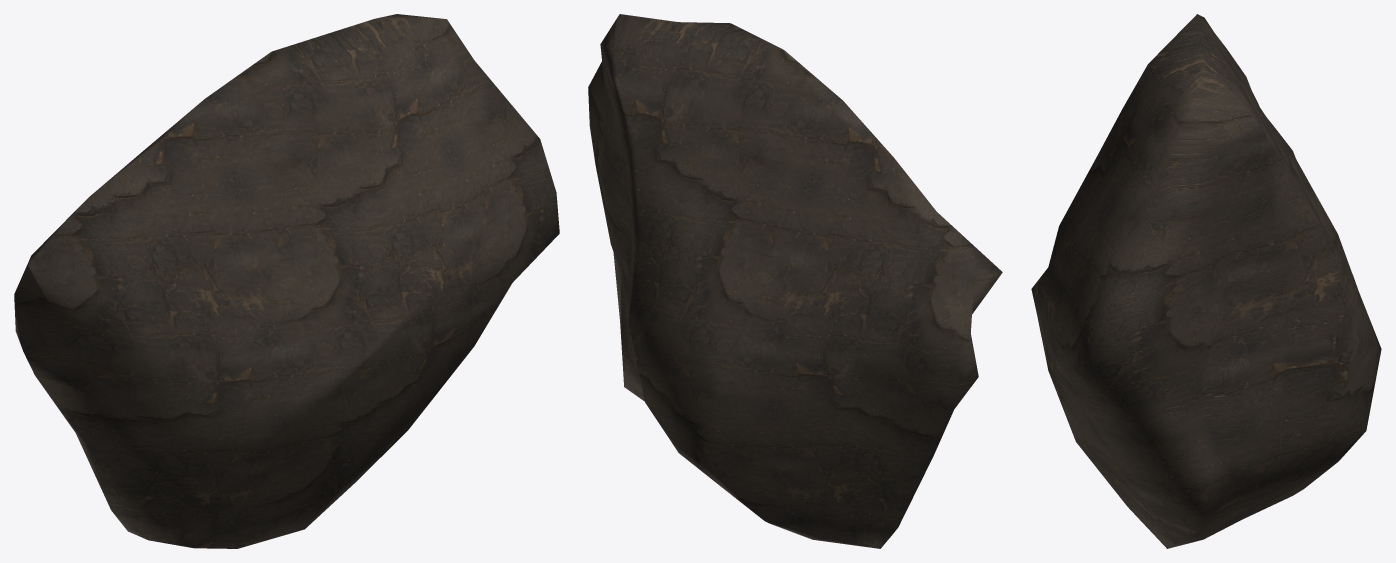
File: cliff_buttress_b_lod2.gltf
3 renders of one model, left to right at view 1: azimuth 30°, elevation 25°; view 2: azimuth 150°, elevation 25°; view 3: azimuth 270°, elevation 25°, orthographic. The views are drawn at different scales.
Visible parts, largest first — view 1: cliff_buttress_b_LOD2; view 2: cliff_buttress_b_LOD2; view 3: cliff_buttress_b_LOD2.
Part boxes in pixels (x1,y1,x2,y2): cliff_buttress_b_LOD2: (14, 14, 559, 548); cliff_buttress_b_LOD2: (588, 14, 1002, 548); cliff_buttress_b_LOD2: (1031, 14, 1381, 548).
Bounding box in the file's own units: 20.56 × 20 × 11.8.
Materials: 1 (1 with a texture image).
